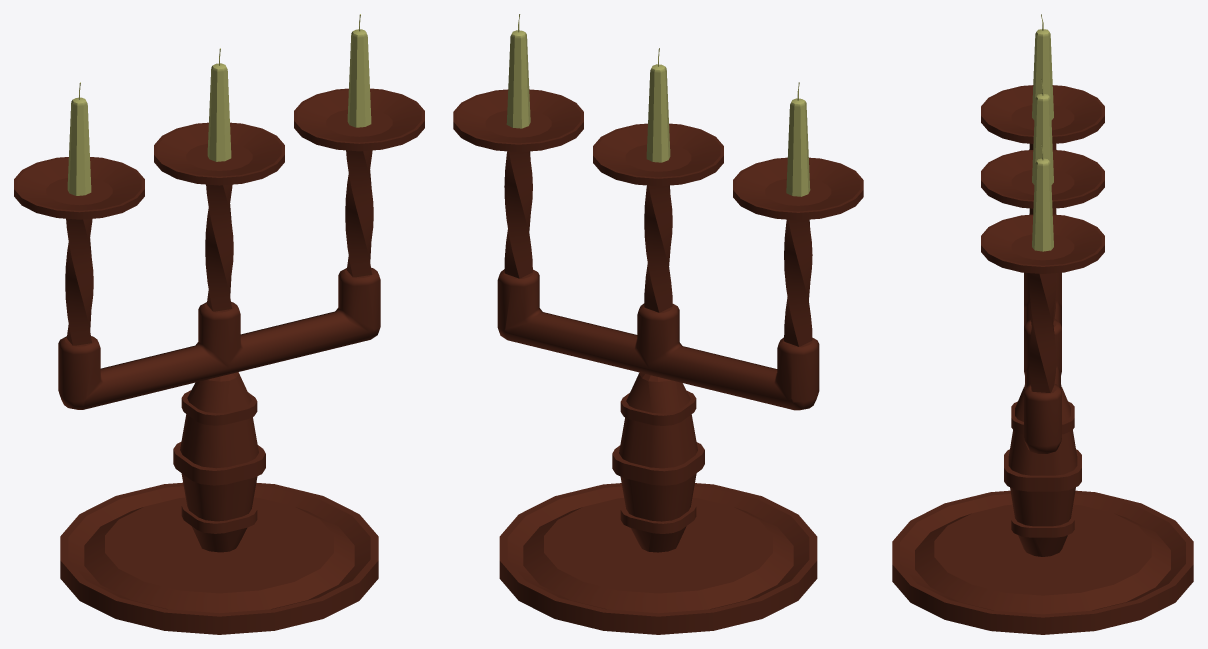
File: CandleHolderLP 1.fbx
3 renders of one model, left to right at view 1: azimuth 30°, elevation 25°; view 2: azimuth 150°, elevation 25°; view 3: azimuth 270°, elevation 25°, orthographic. The views are drawn at different scales.
Parts seen in each view (by area): view 1: Holder, Candle2, Candle3, Candle1; view 2: Holder, Candle3, Candle1, Candle2; view 3: Holder, Candle1, Candle3, Candle2.
Boxes of the visible parts, x1,y1,x2,y2 form: Holder: [14, 88, 424, 634]; Candle2: [207, 48, 231, 161]; Candle3: [67, 82, 91, 195]; Candle1: [347, 14, 371, 127]; Holder: [453, 89, 863, 634]; Candle3: [786, 82, 810, 196]; Candle1: [506, 14, 530, 128]; Candle2: [646, 48, 670, 162]; Holder: [892, 85, 1193, 634]; Candle1: [1032, 143, 1053, 251]; Candle3: [1032, 14, 1053, 119]; Candle2: [1032, 79, 1053, 184].
Bounding box in the file's own units: 67.73 × 85.01 × 47.27.
